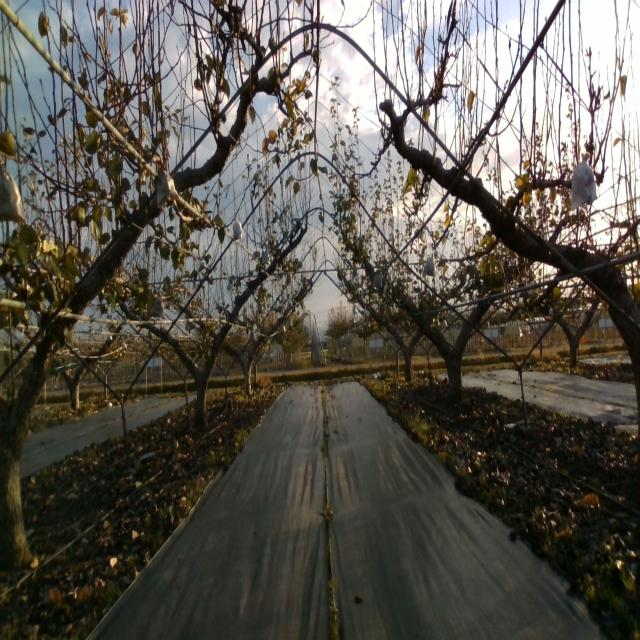pearbags: (0, 157, 26, 225), (570, 155, 597, 210), (156, 169, 180, 209), (422, 253, 435, 278), (233, 216, 242, 242)
